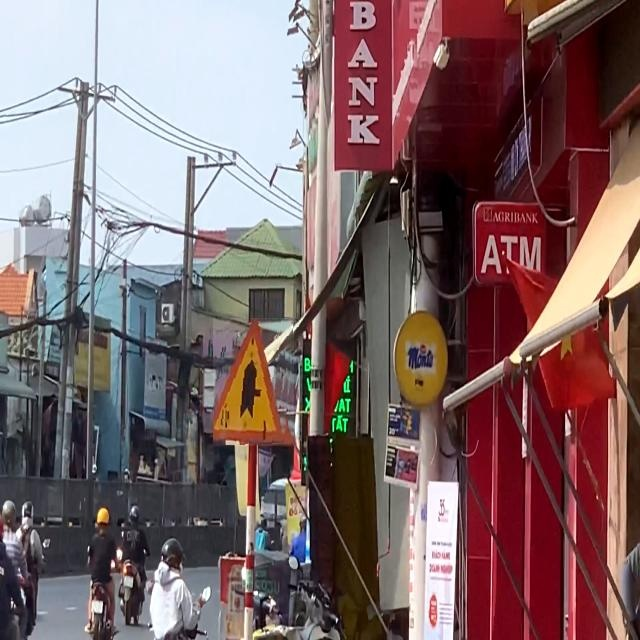bien_nguy_hiem: (213, 318, 294, 446)
